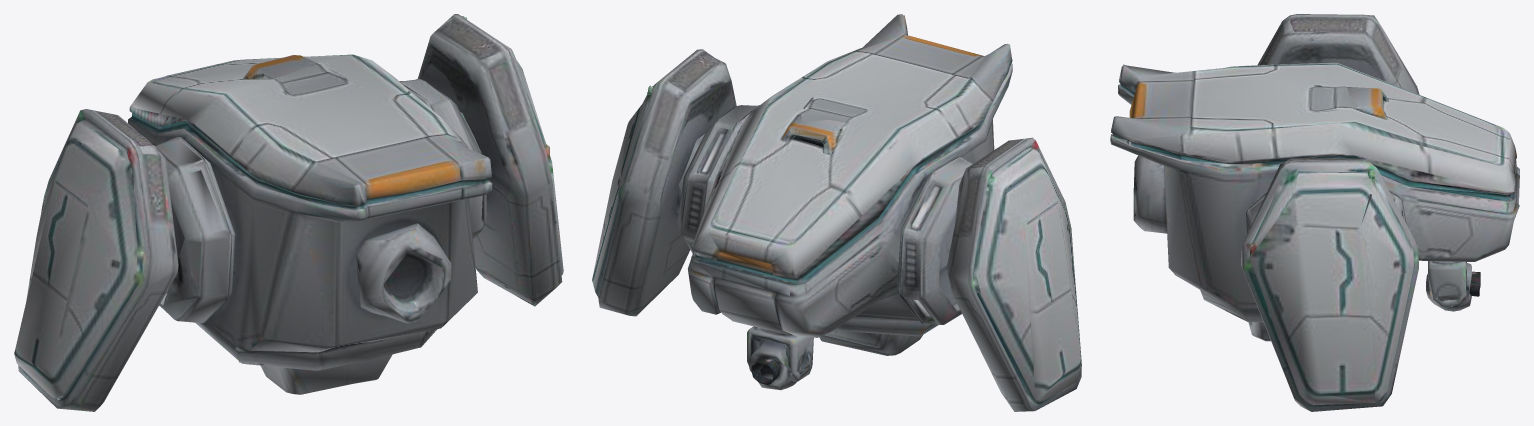
The model's file is river_drone.glb.
3 views of the same model, side by side, from view 1: azimuth 30°, elevation 25°; view 2: azimuth 150°, elevation 25°; view 3: azimuth 270°, elevation 25° (orthographic). The views are drawn at different scales.
Parts seen in each view (by area): view 1: Body; view 2: Body; view 3: Body, Trim.
Boxes of the visible parts, x1,y1,x2,y2 form: Body: (14,14,563,411); Body: (592,14,1081,411); Body: (1110,14,1519,411); Trim: (1133,146,1509,402).
Size of the model in its own units: 2.36 by 1.24 by 1.94.
2 materials, 2 textured.
